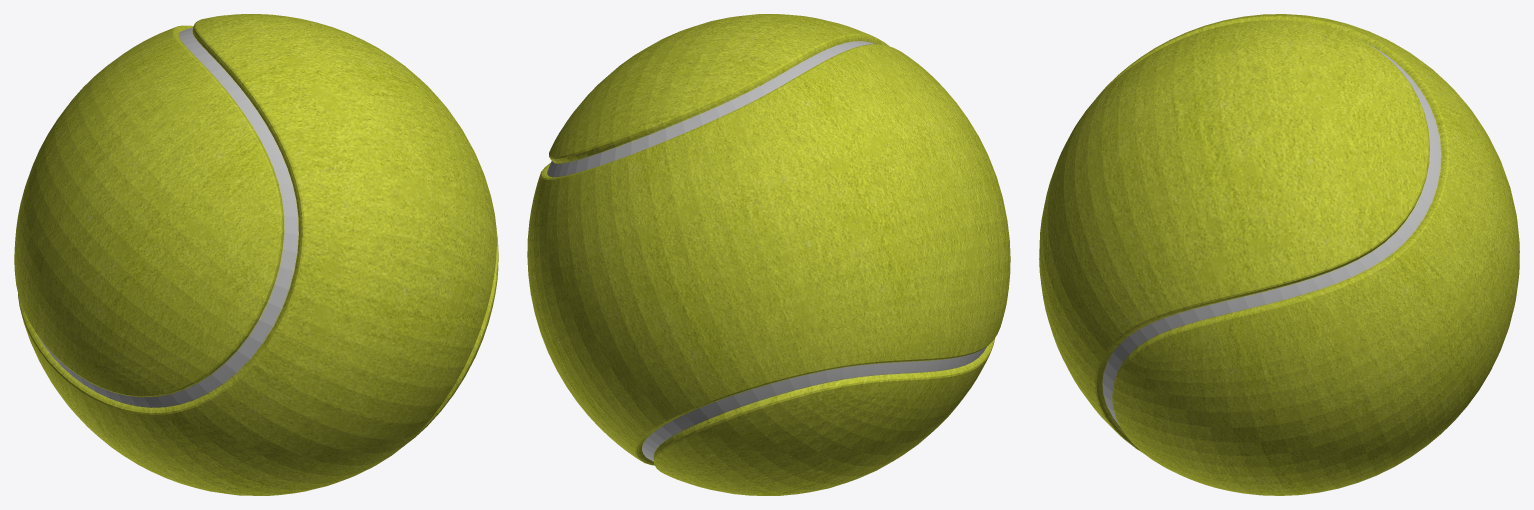
File: tennis_ball.glb
The picture shows the model from 3 angles, left to right: view 1: azimuth 30°, elevation 25°; view 2: azimuth 150°, elevation 25°; view 3: azimuth 270°, elevation 25°; orthographic projection.
Parts seen in each view (by area): view 1: tennis_ball_clean.obj; view 2: tennis_ball_clean.obj; view 3: tennis_ball_clean.obj.
Part boxes in pixels (bbox=[...]): tennis_ball_clean.obj: bbox=[14, 14, 498, 495]; tennis_ball_clean.obj: bbox=[527, 14, 1010, 495]; tennis_ball_clean.obj: bbox=[1039, 14, 1519, 495].
Size of the model in its own units: 6.18 by 6.18 by 6.17.
Materials: 1 (1 with a texture image).
